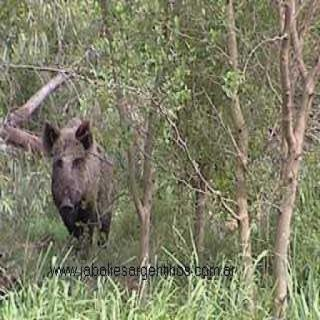Pig: (31, 111, 138, 280)
